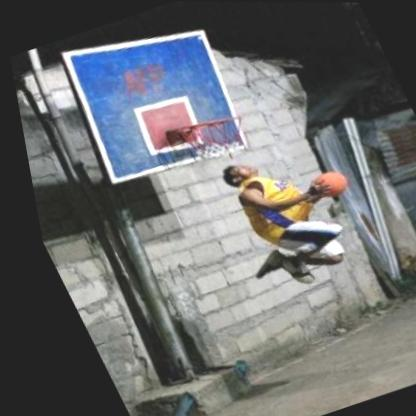basketball: (299, 162, 352, 205)
